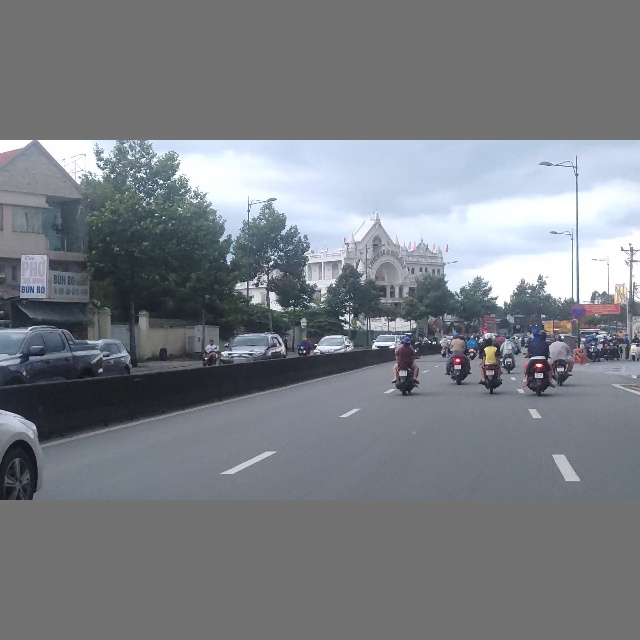P.130: (571, 304, 586, 319)
